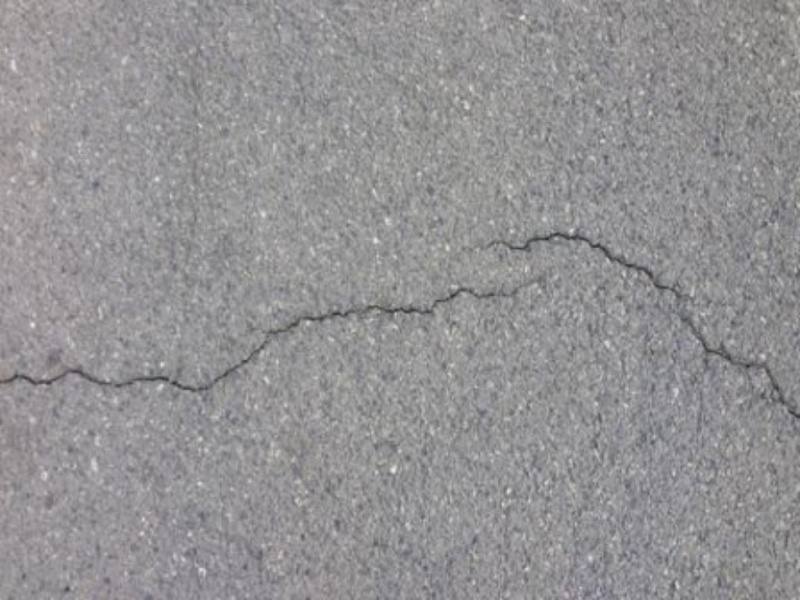crack: (463, 208, 800, 417), (1, 279, 545, 393)
